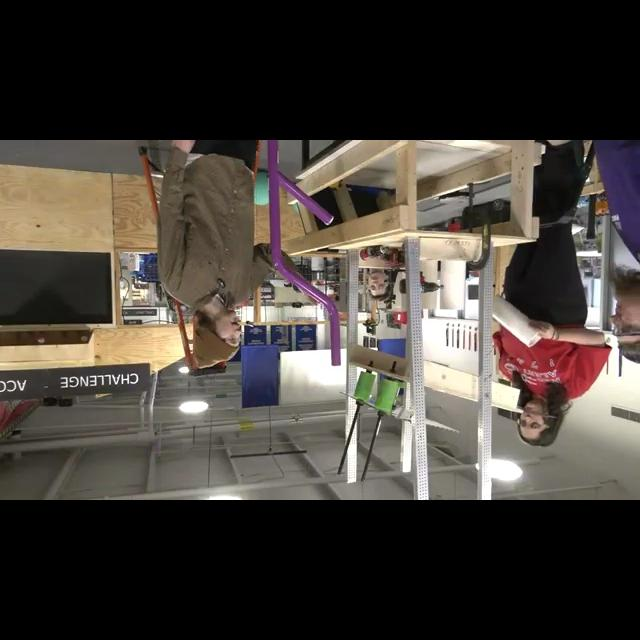CORAL: (492, 295, 544, 349), (439, 260, 465, 310), (419, 260, 437, 308)
